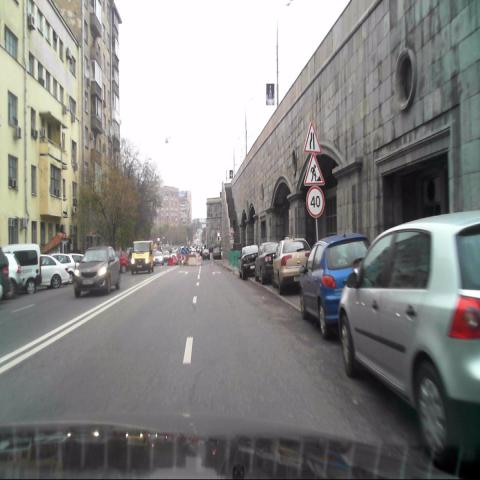1_20_3: (302, 122, 322, 154)
